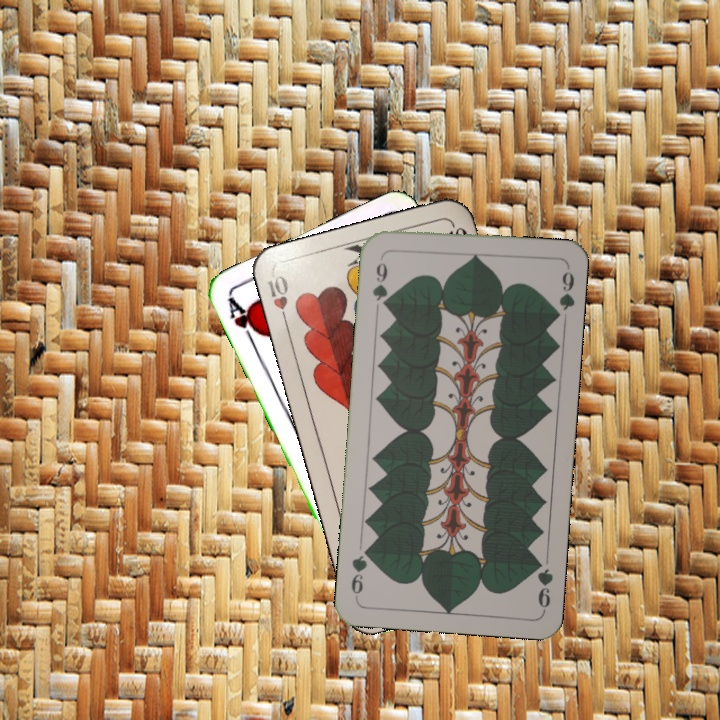G9: (530, 553, 556, 613), (369, 252, 391, 311)
H10: (263, 271, 291, 330)
HA: (223, 293, 264, 349)
